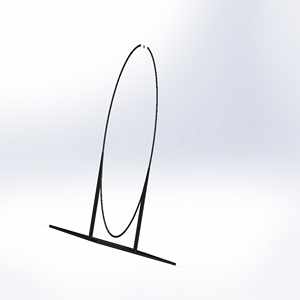circle: (43, 39, 178, 268)
